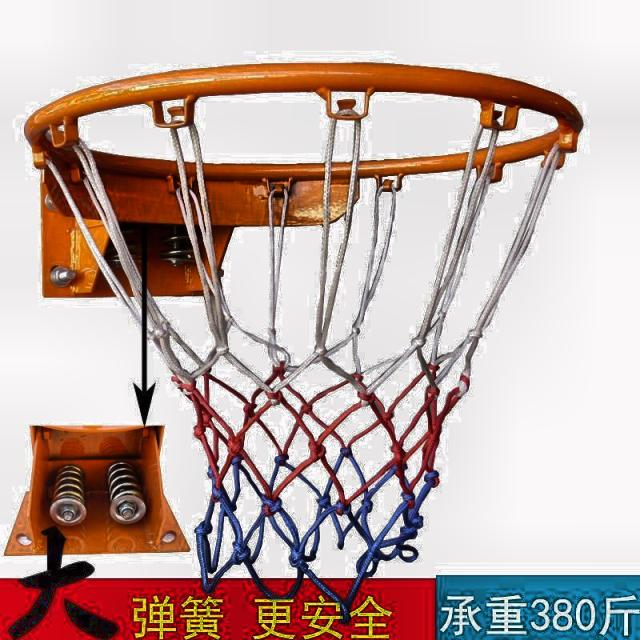rim: (24, 62, 586, 616)
